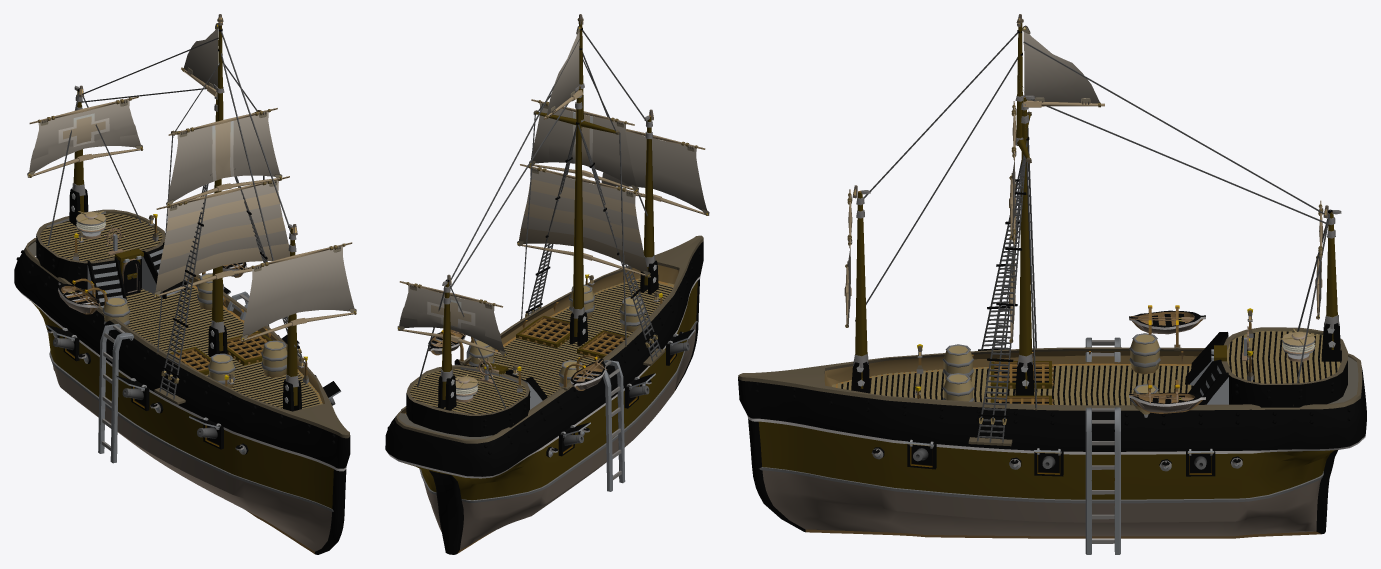
Rendered from brown_marauder.glb.
3 views of the same model, side by side, from view 1: azimuth 30°, elevation 25°; view 2: azimuth 150°, elevation 25°; view 3: azimuth 270°, elevation 25° (orthographic). The views are drawn at different scales.
Visible parts, largest first — view 1: Ship; view 2: Ship; view 3: Ship.
Part boxes in pixels (bbox=[...]): Ship: bbox=[14, 14, 356, 554]; Ship: bbox=[385, 14, 709, 554]; Ship: bbox=[738, 14, 1366, 554].
Bounding box in the file's own units: 120 × 310 × 340.
